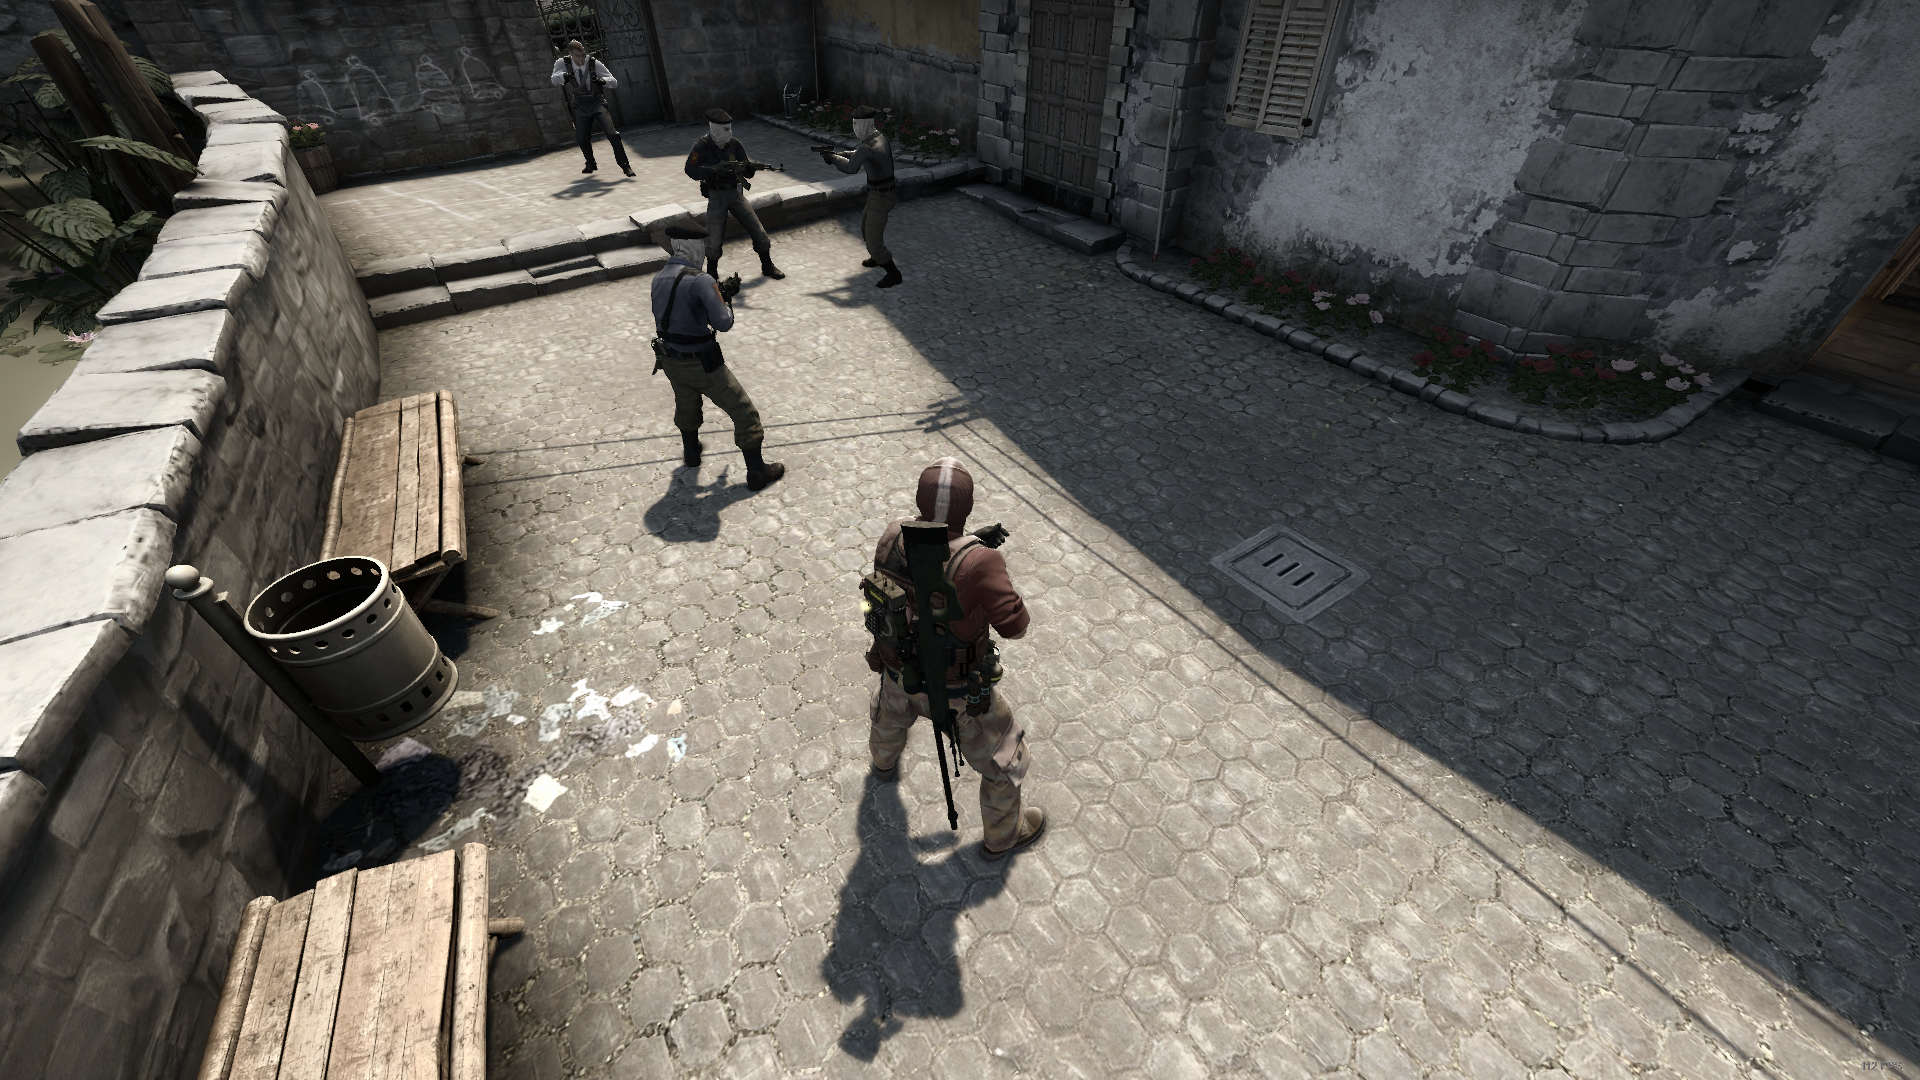t: (637, 220, 795, 495), (682, 105, 781, 281), (824, 102, 903, 291)
